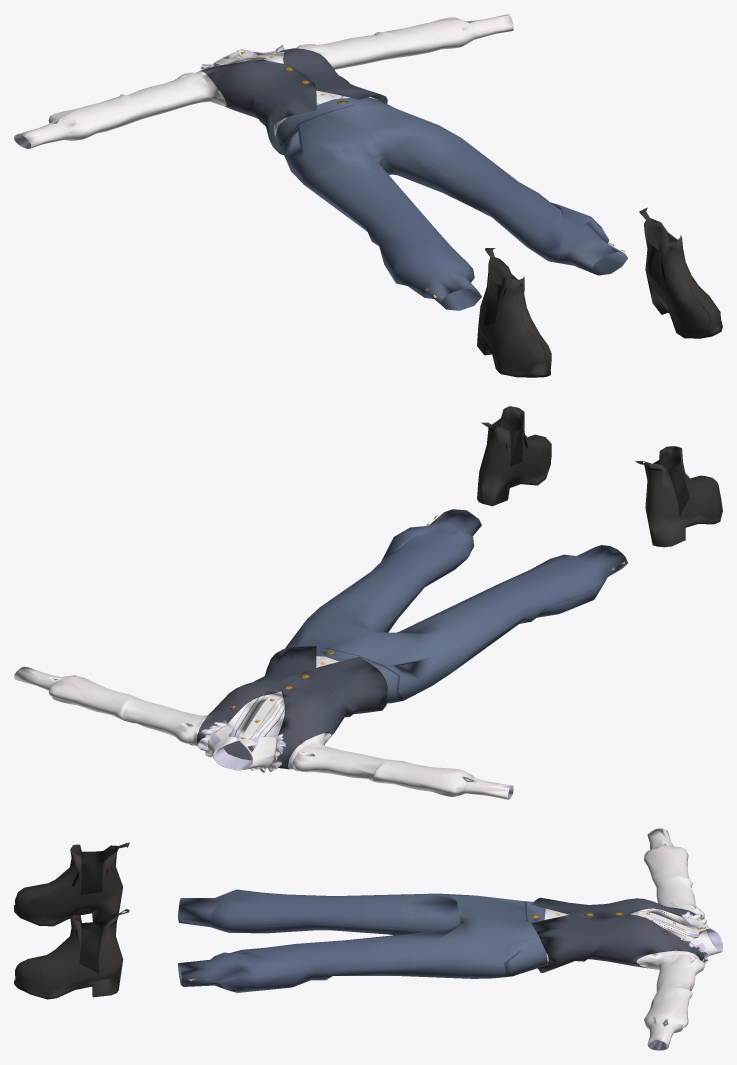
The model's file is AoiGround.fbx.
3 renders of one model, top to bottom at view 1: azimuth 30°, elevation 25°; view 2: azimuth 150°, elevation 25°; view 3: azimuth 270°, elevation 25°, orthographic. The views are drawn at different scales.
Parts seen in each view (by area): view 1: M_Face; view 2: M_Face; view 3: M_Face.
Part boxes in pixels (x1,y1,x2,y2): M_Face: (14, 14, 722, 377); M_Face: (14, 406, 722, 799); M_Face: (14, 828, 722, 1050).
Size of the model in its own units: 0.6156 by 0.1132 by 0.8628.
